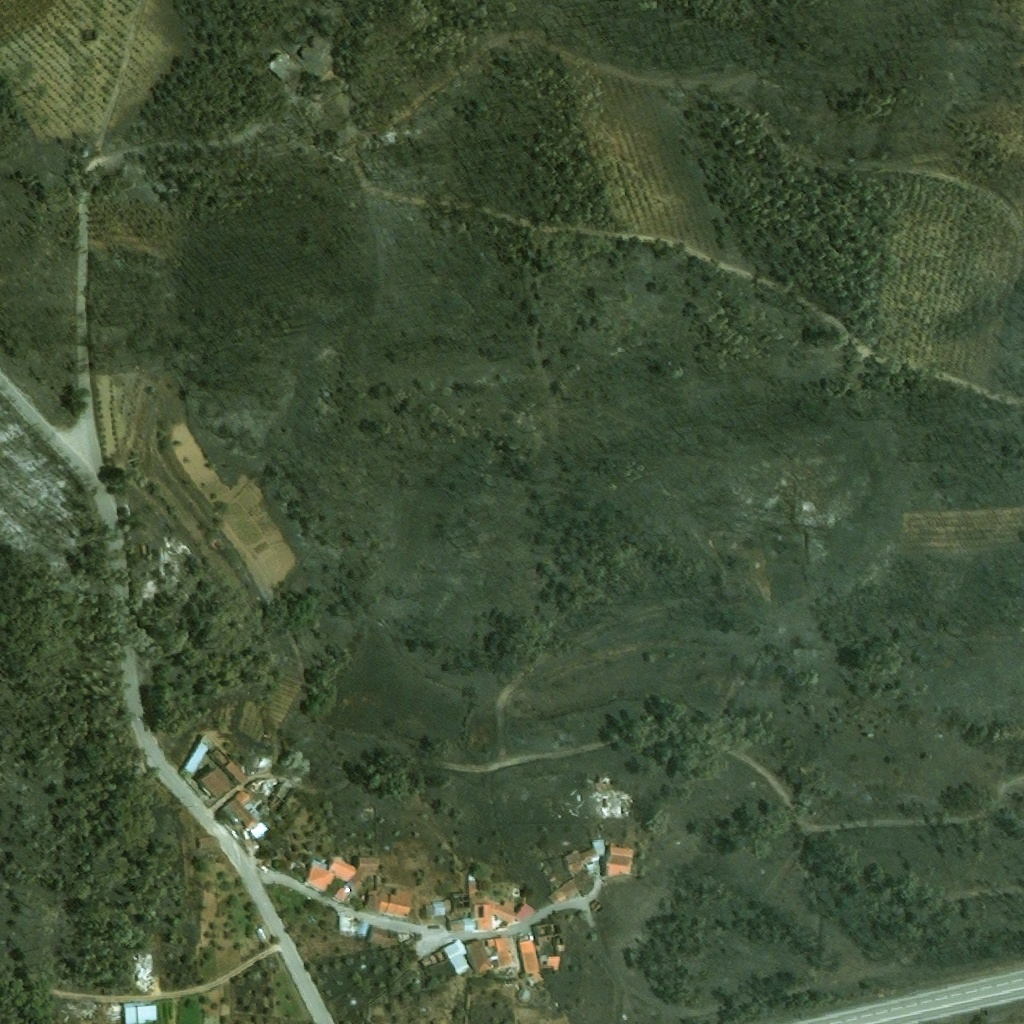0 no-damage: (301, 854, 358, 894), (218, 797, 267, 840), (234, 787, 280, 831), (560, 838, 606, 878), (209, 746, 247, 786), (196, 766, 235, 804), (365, 889, 414, 919), (545, 877, 583, 907), (180, 740, 210, 776), (464, 939, 494, 973), (517, 935, 542, 974), (264, 50, 294, 79), (485, 937, 513, 968), (605, 846, 631, 876), (367, 924, 399, 947), (299, 34, 325, 62), (345, 869, 372, 890), (337, 911, 361, 933), (333, 884, 356, 905), (251, 755, 273, 776), (425, 901, 447, 917), (395, 926, 413, 943), (447, 919, 467, 933), (254, 925, 269, 943), (195, 837, 216, 849), (358, 857, 379, 869), (510, 885, 525, 900), (517, 989, 531, 1003), (547, 956, 561, 969), (373, 875, 381, 887), (518, 937, 529, 941)
2 major-damage: (452, 873, 535, 931), (418, 938, 472, 977), (106, 1004, 158, 1023)
3 destroyed: (267, 779, 297, 815), (602, 790, 629, 817), (135, 955, 154, 993), (245, 778, 282, 796), (533, 924, 564, 945), (170, 538, 190, 558), (80, 1003, 99, 1018), (589, 899, 605, 915), (596, 774, 612, 785)
